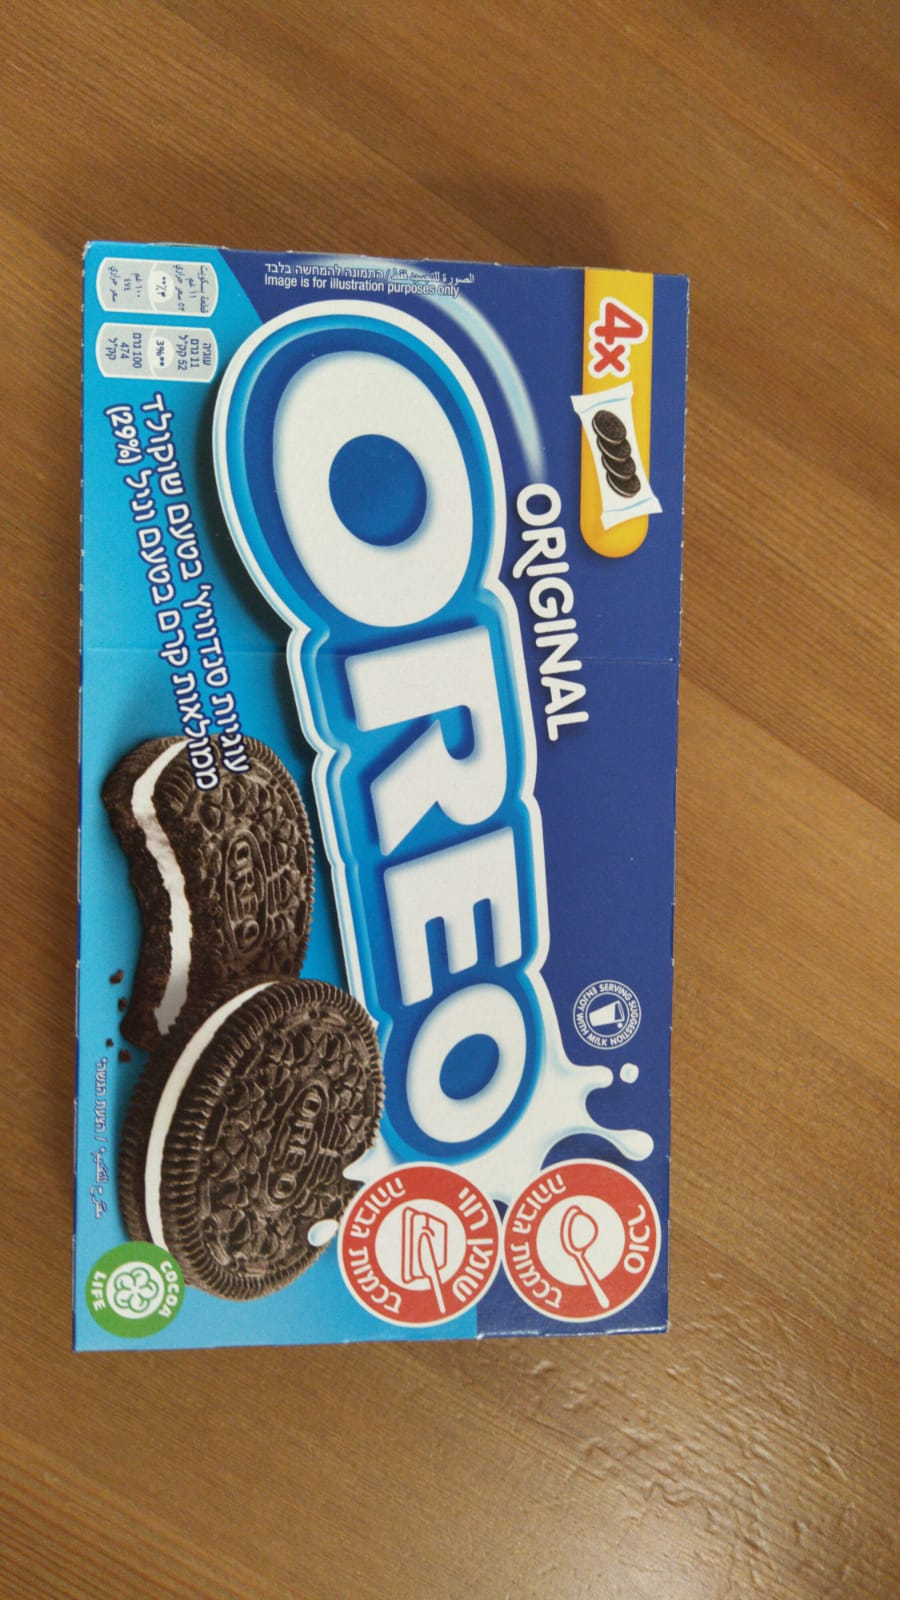fat: (336, 1163, 502, 1333)
sugar: (496, 1160, 664, 1327)
